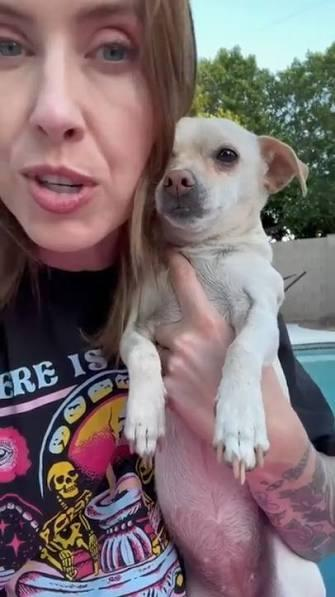adult_dog: (112, 112, 309, 589)
